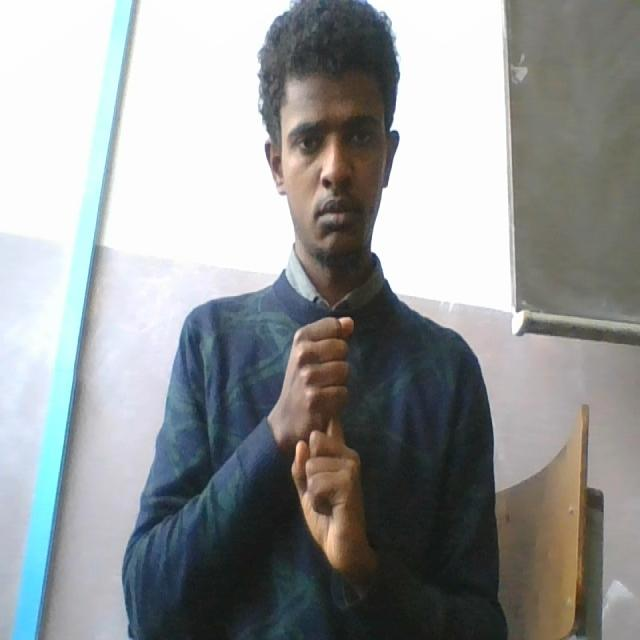meyaz: (274, 301, 372, 577)
